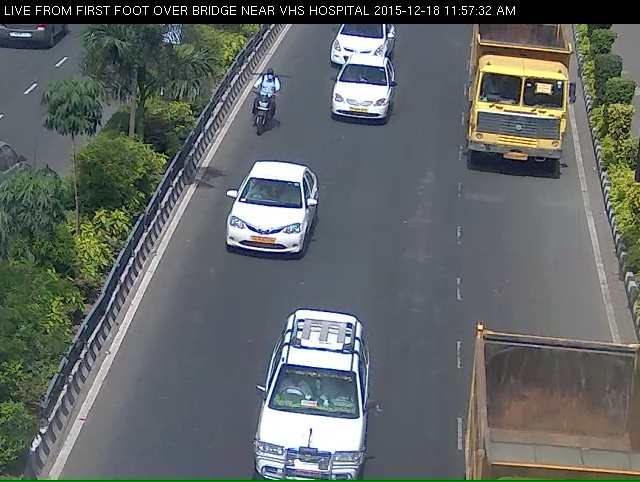Bus: (458, 22, 573, 191)
Car: (255, 337, 365, 480), (217, 175, 305, 275), (325, 69, 387, 133), (324, 18, 391, 66)
Person: (242, 78, 277, 143)
